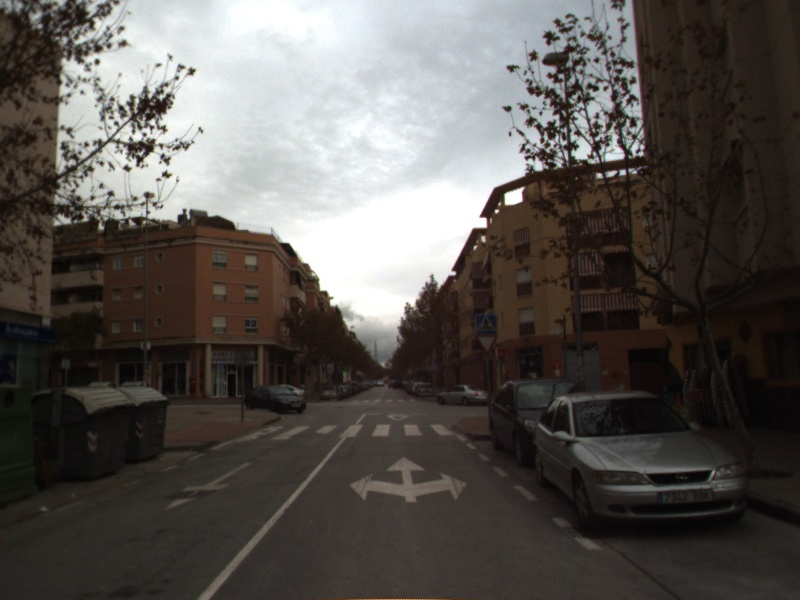STRAIGHT_LEFT_RIGHT: (348, 454, 469, 505)
